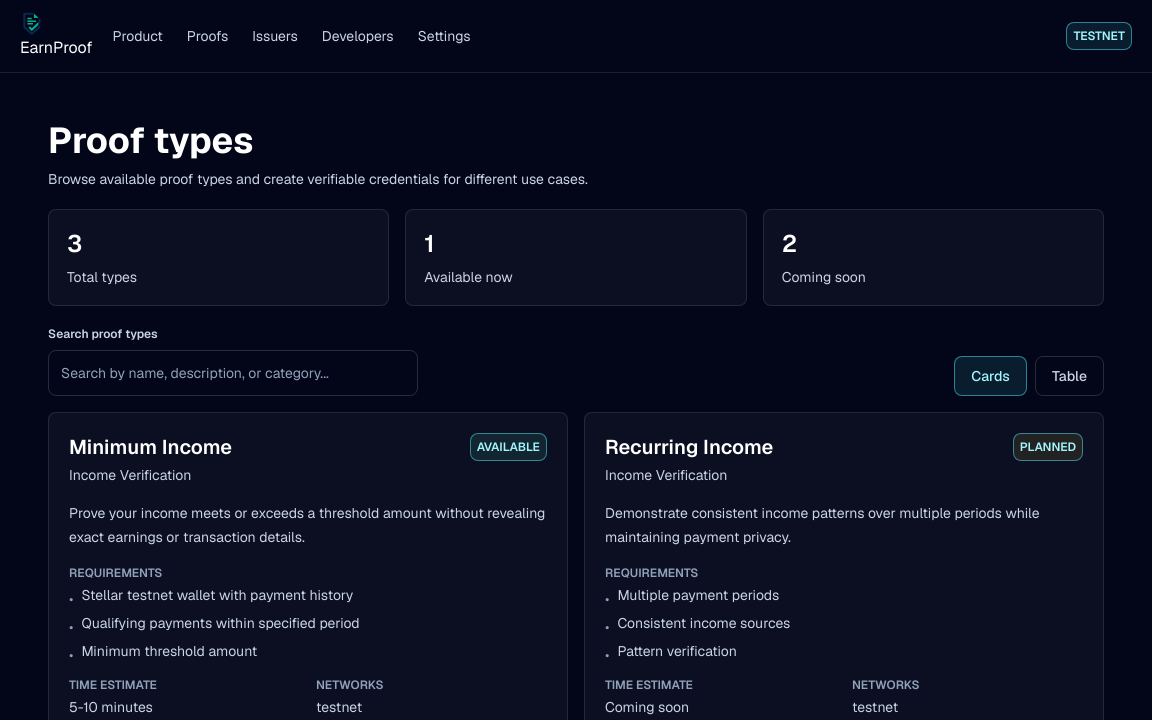
Test: ProofTypesPage › shows no results state when search has no matches
This screenshot has width=1152, height=720.
// Search for something that doesn't exist
Type "nonexistent" into the search field with placeholder "Search by name, description, or category..." at x=233, y=373, box 48,350 -> 418,396
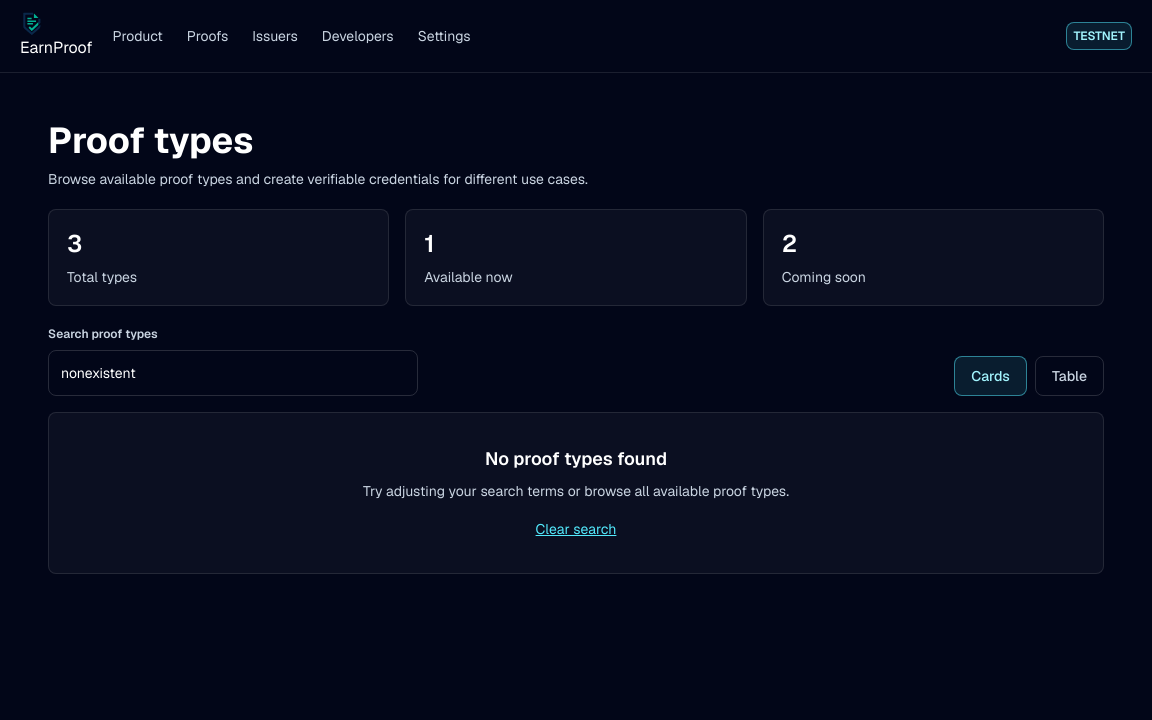
Check: the heading "No proof types found" is shown, box 485,447 -> 667,470
Check: the text "Try adjusting your search terms or browse all available proof types." is shown, box 363,482 -> 789,500
